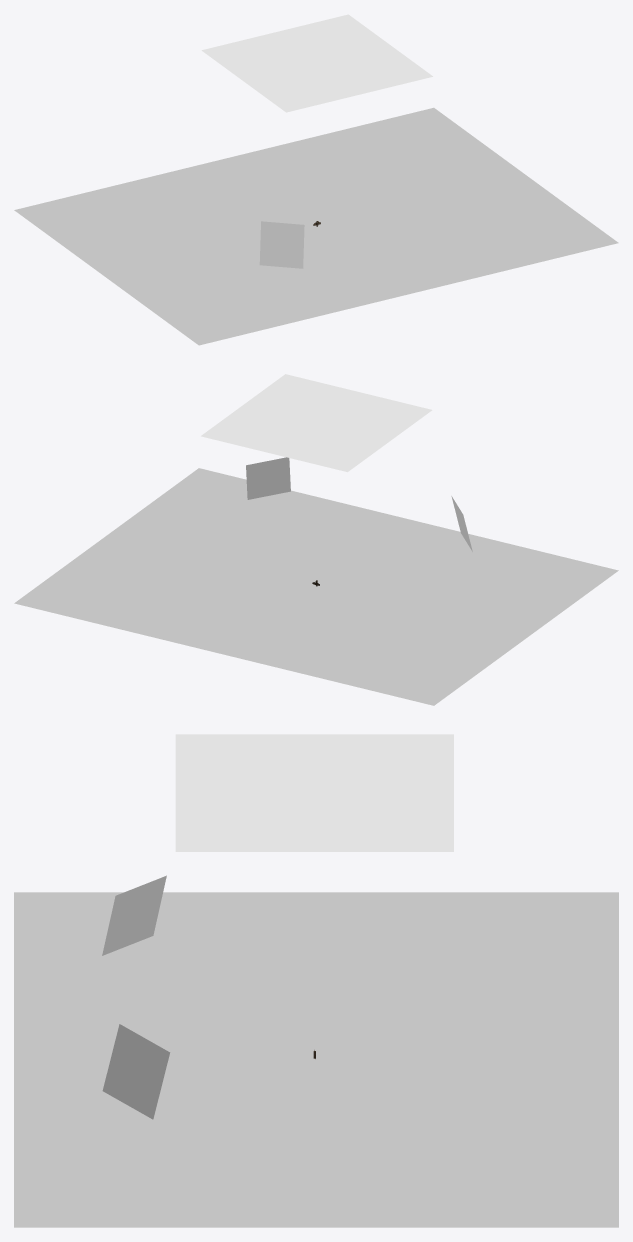
File: Bat.obj
3 renders of one model, top to bottom at view 1: azimuth 30°, elevation 25°; view 2: azimuth 150°, elevation 25°; view 3: azimuth 270°, elevation 25°, orthographic. The views are drawn at different scales.
Visible parts, largest first — view 1: Plane, Softbox, Front_Of_Softbox, Front_Of_Softbox_1; view 2: Plane, Softbox, Front_Of_Softbox_1; view 3: Plane, Softbox, Front_Of_Softbox_1, Front_Of_Softbox.
Boxes of the visible parts, box(x1,y1,x2,y2) form: Plane: box(14, 107, 618, 345); Softbox: box(201, 14, 432, 112); Front_Of_Softbox: box(259, 221, 304, 268); Front_Of_Softbox_1: box(464, 170, 484, 226); Plane: box(14, 468, 618, 705); Softbox: box(201, 374, 432, 472); Front_Of_Softbox_1: box(246, 457, 290, 499); Plane: box(14, 892, 618, 1227); Softbox: box(175, 734, 453, 851); Front_Of_Softbox_1: box(102, 1024, 170, 1119); Front_Of_Softbox: box(102, 875, 166, 955).
Bounding box in the file's own units: 4277 × 1590 × 3262.
